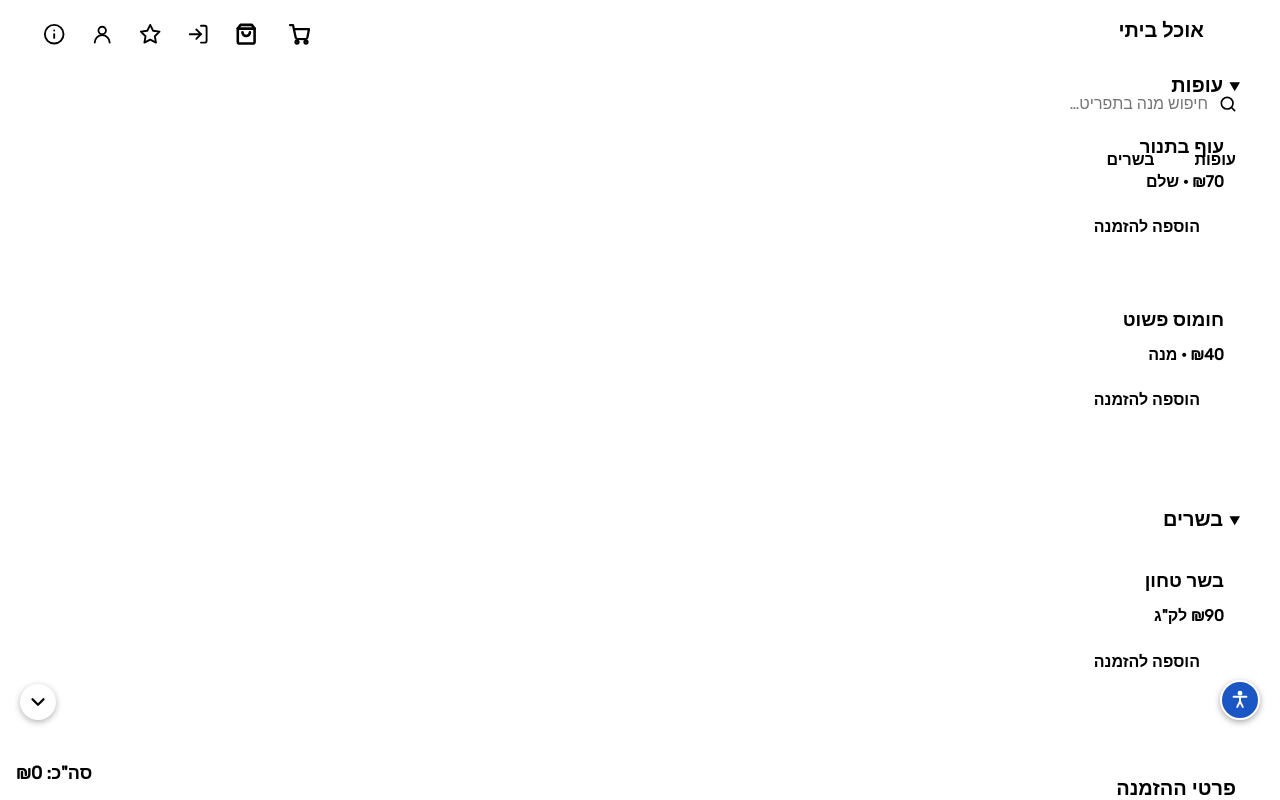
Scenario: The order page › asks a guest whether to keep the details, and keeps them by phone
(page scrolled)
Click the button with aria-label "הוספה להזמנה: חומוס פשוט" at (1147, 400), box [1074, 378, 1220, 423]
(page scrolled)
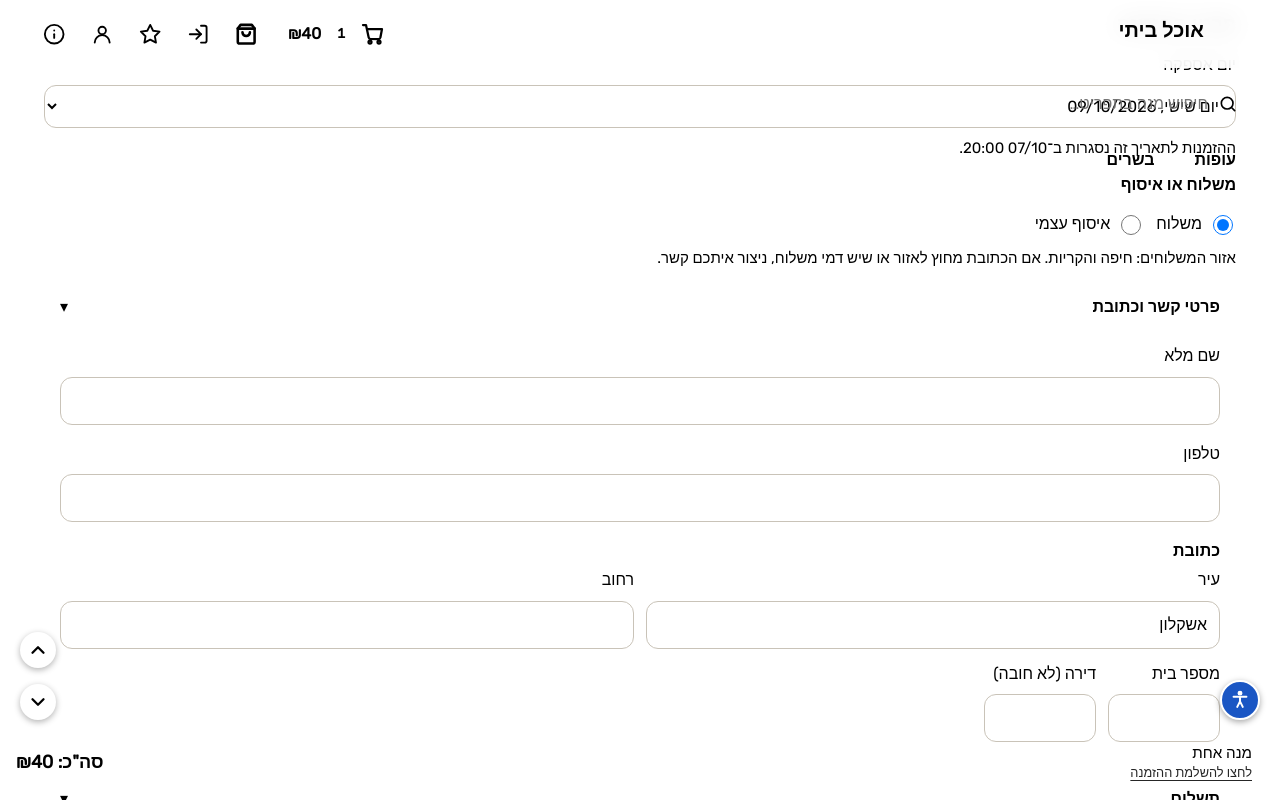
Type "דנה" into the field labelled "שם מלא" at (640, 401), box [60, 377, 1220, 425]
Type "הרצל" into the field labelled "רחוב" at (347, 625), box [60, 601, 634, 649]
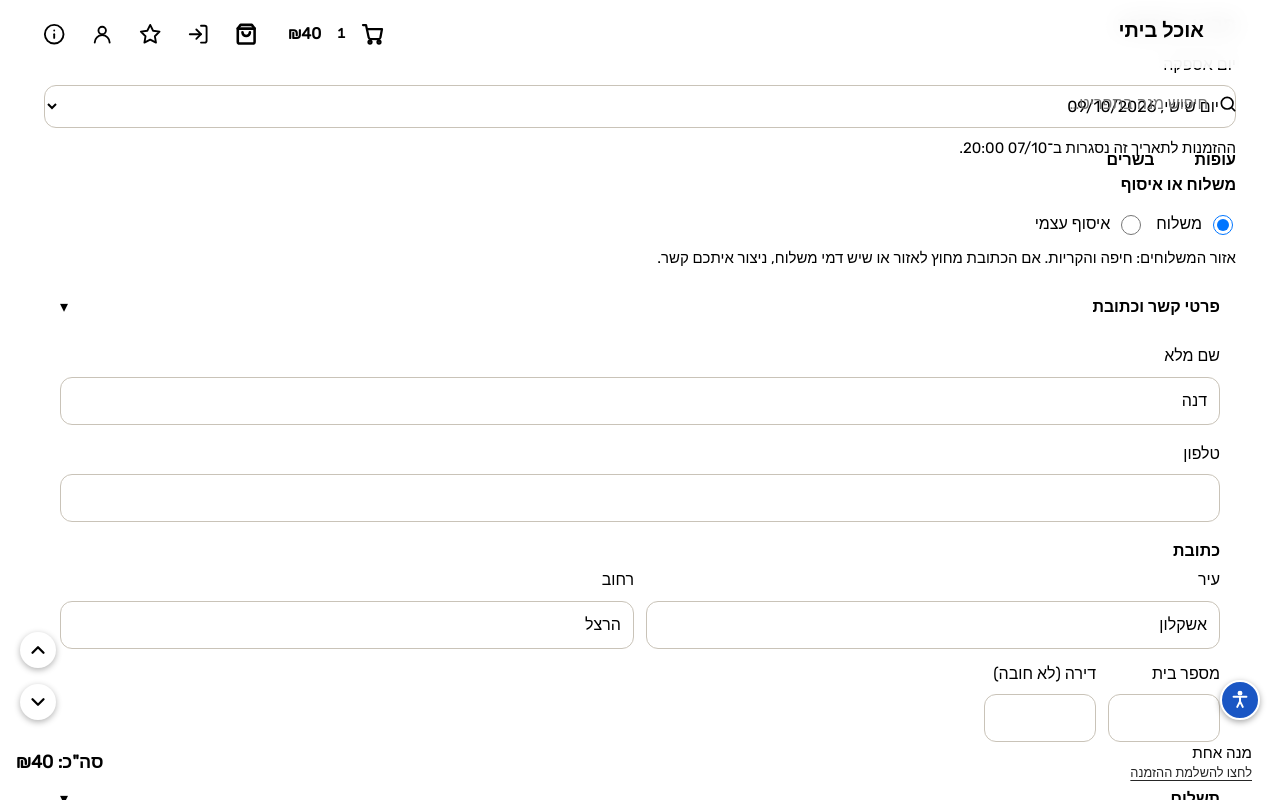
Type "1" into the field labelled "מספר בית" at (1164, 718), box [1108, 694, 1220, 742]
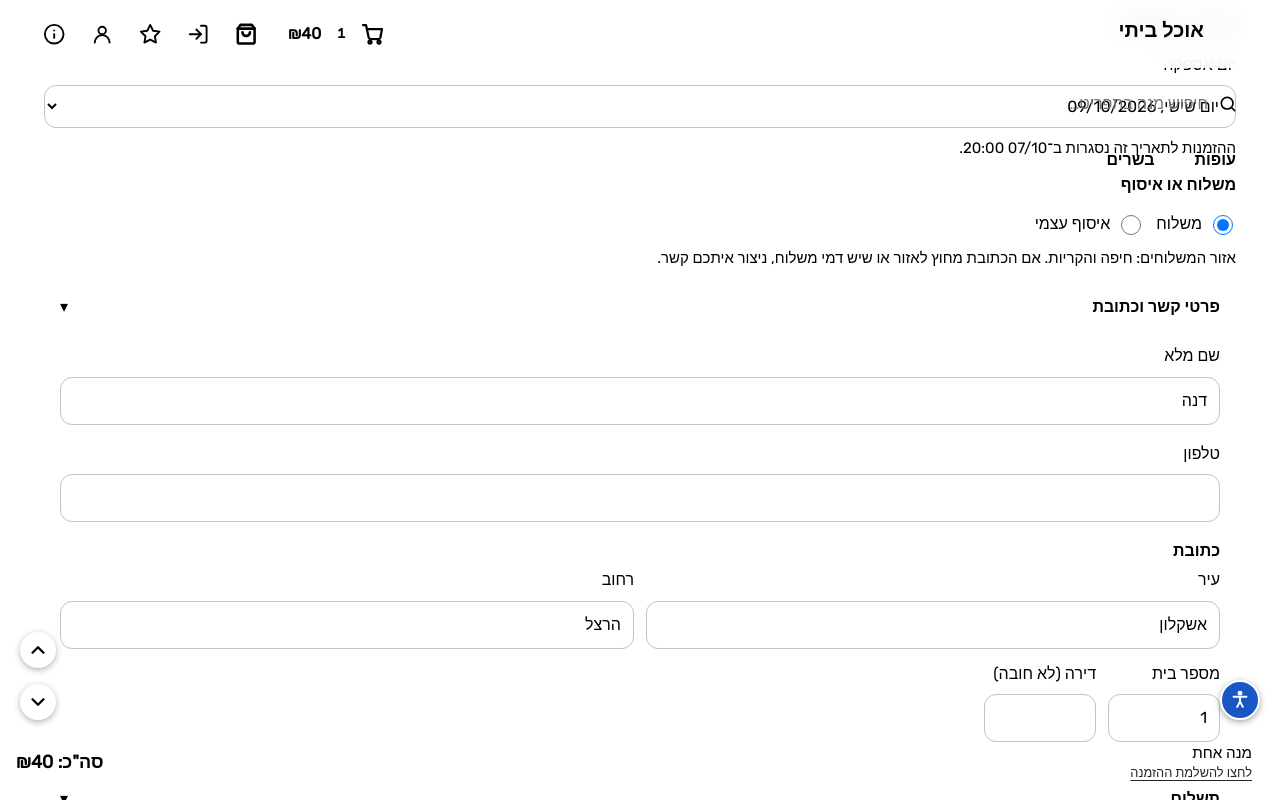
Type "050-123-4567" into the field labelled "טלפון" at (640, 498), box [60, 474, 1220, 522]
(page scrolled)
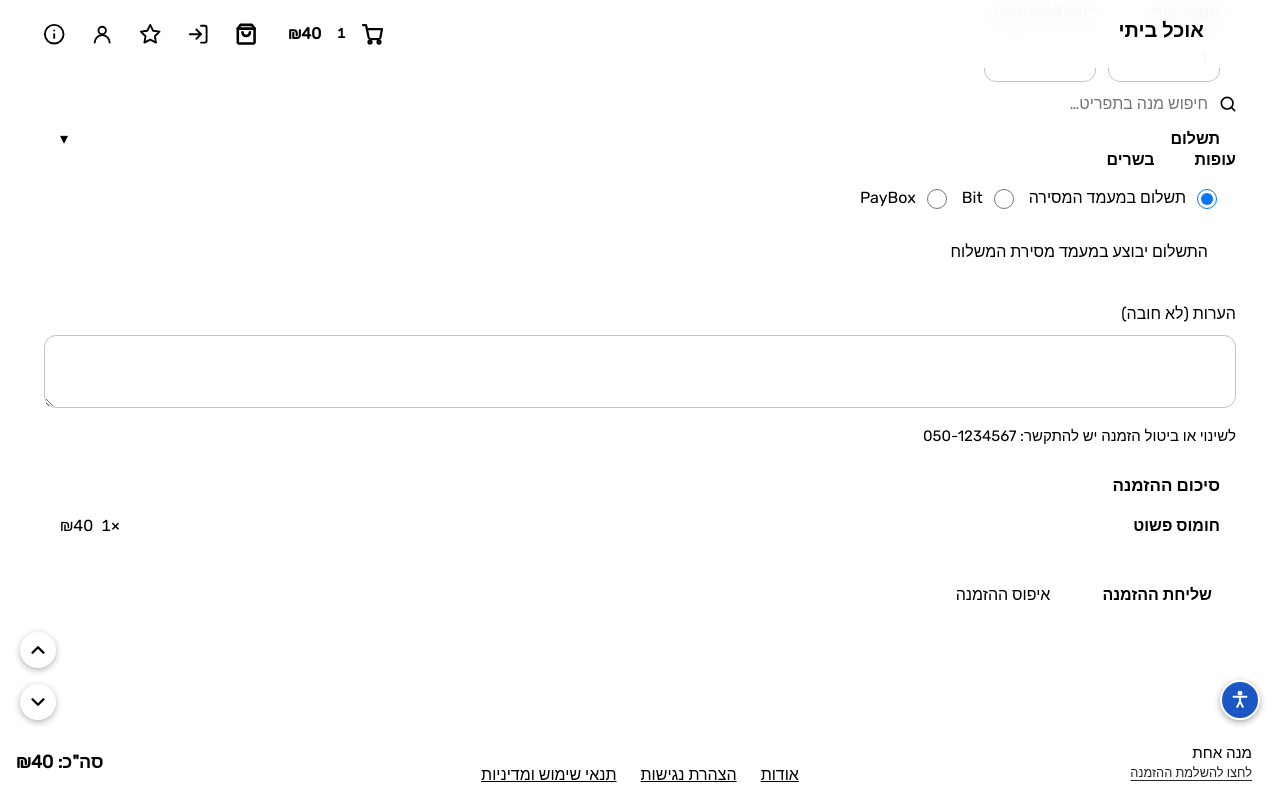
Click the button "שליחת ההזמנה" at (1157, 595), box [1082, 572, 1232, 618]
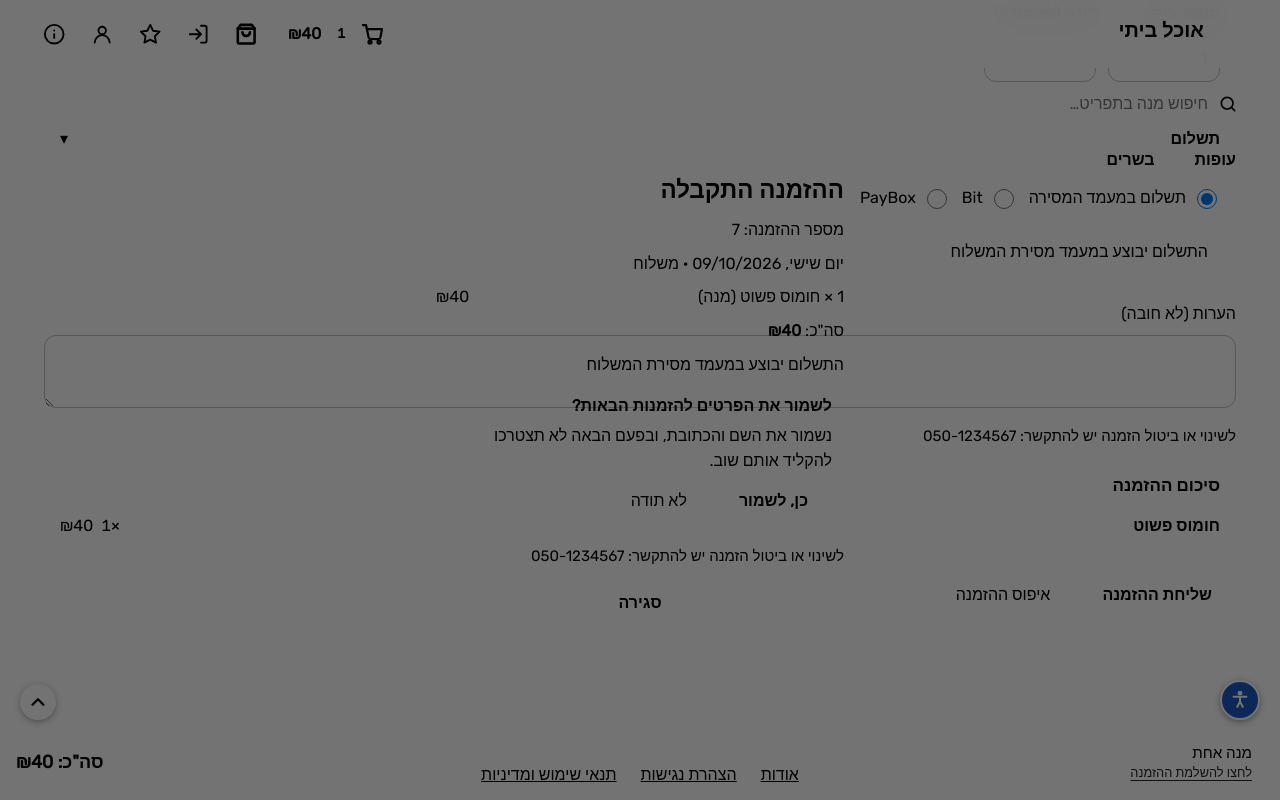
Click the button "כן, לשמור" at (773, 501), box [719, 478, 828, 524]
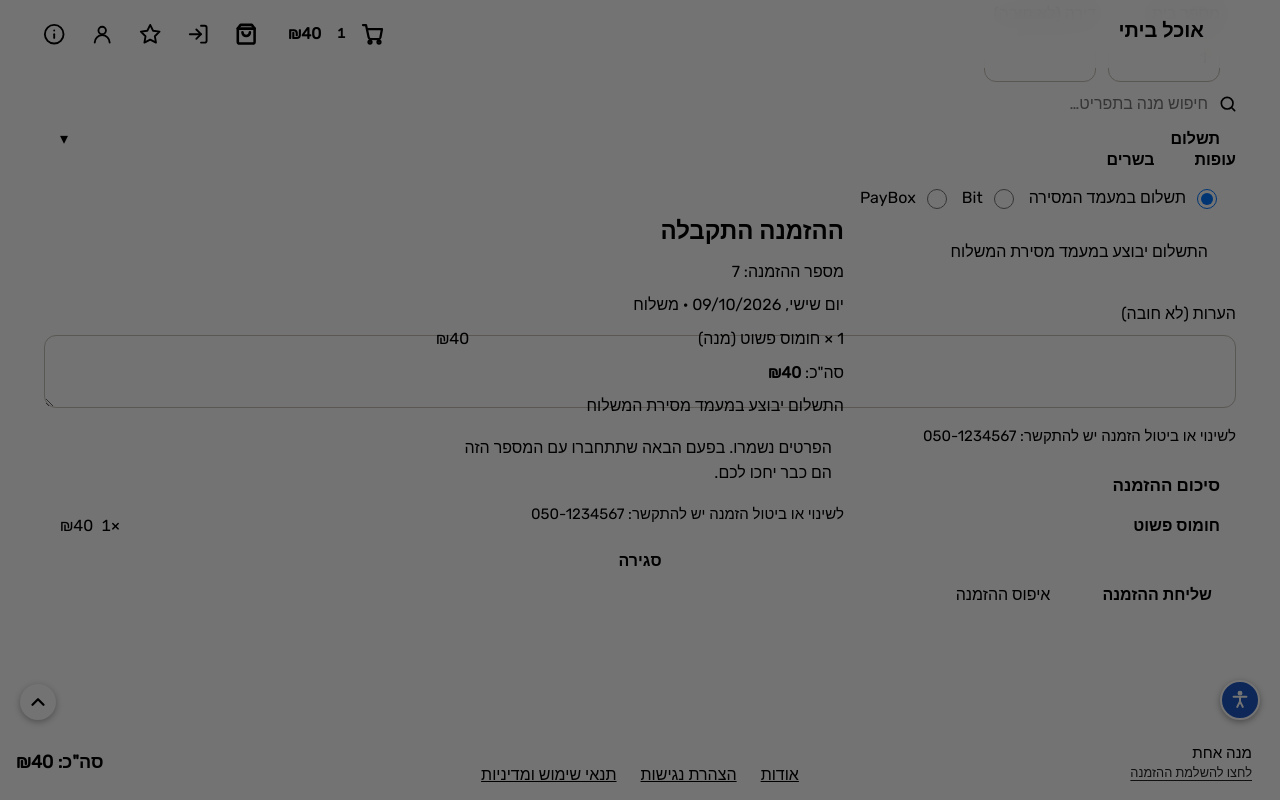
Check: the text "הפרטים נשמרו. בפעם הבאה שתתחברו עם המספר הזה הם כבר יחכו לכם." is shown, box [436, 427, 844, 494]
